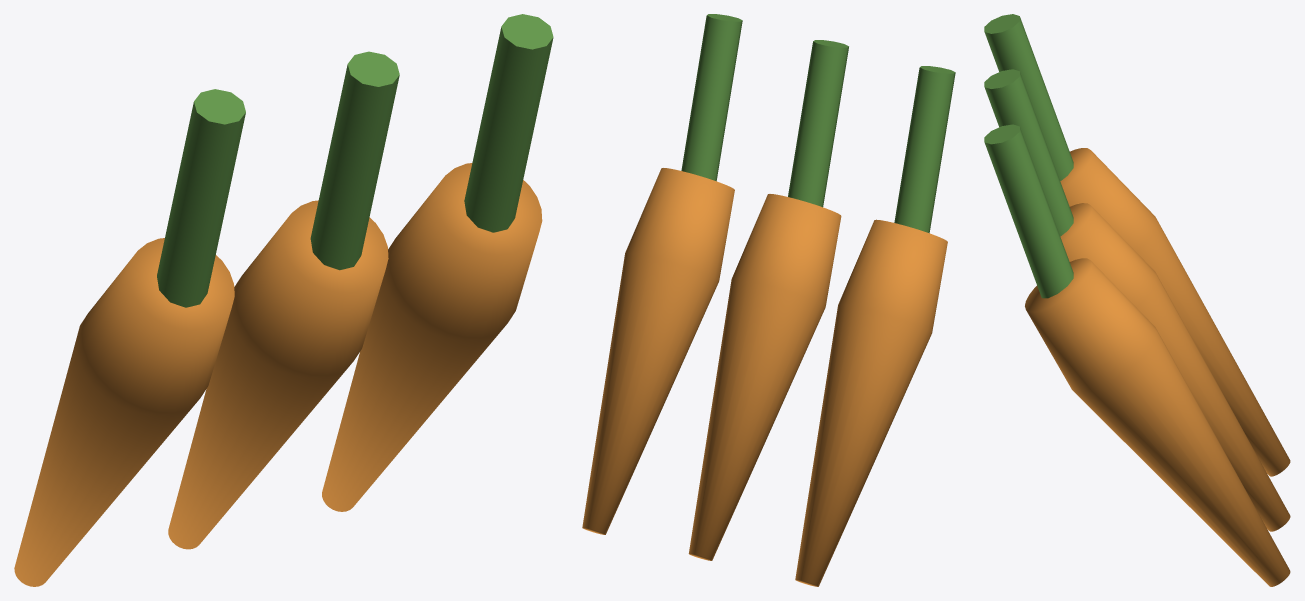
The model's file is sku_carrots.glb.
3 views of the same model, side by side, from view 1: azimuth 30°, elevation 25°; view 2: azimuth 150°, elevation 25°; view 3: azimuth 270°, elevation 25° (orthographic). The views are drawn at different scales.
Parts seen in each view (by area): view 1: sku_carrots_FY21_carrot, sku_carrots_FY21_fresh_leaf; view 2: sku_carrots_FY21_carrot, sku_carrots_FY21_fresh_leaf; view 3: sku_carrots_FY21_carrot, sku_carrots_FY21_fresh_leaf.
Boxes of the visible parts, x1,y1,x2,y2 form: sku_carrots_FY21_carrot: [14, 163, 542, 586]; sku_carrots_FY21_fresh_leaf: [157, 14, 553, 307]; sku_carrots_FY21_carrot: [582, 168, 947, 586]; sku_carrots_FY21_fresh_leaf: [681, 14, 955, 233]; sku_carrots_FY21_carrot: [1025, 148, 1290, 586]; sku_carrots_FY21_fresh_leaf: [984, 14, 1073, 298].
Size of the model in its own units: 0.224 by 0.3081 by 0.1874.
